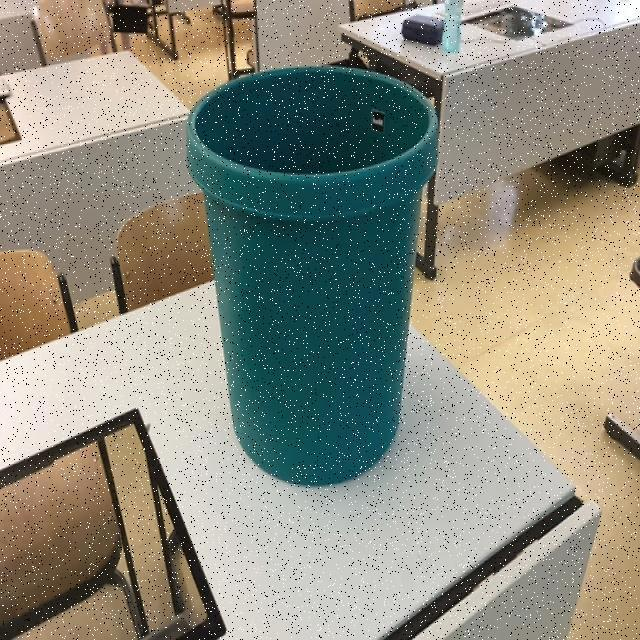garbage container: (180, 53, 454, 499)
